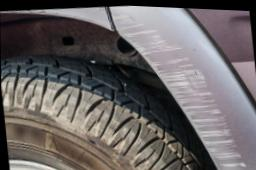Fender: (84, 4, 256, 168)
